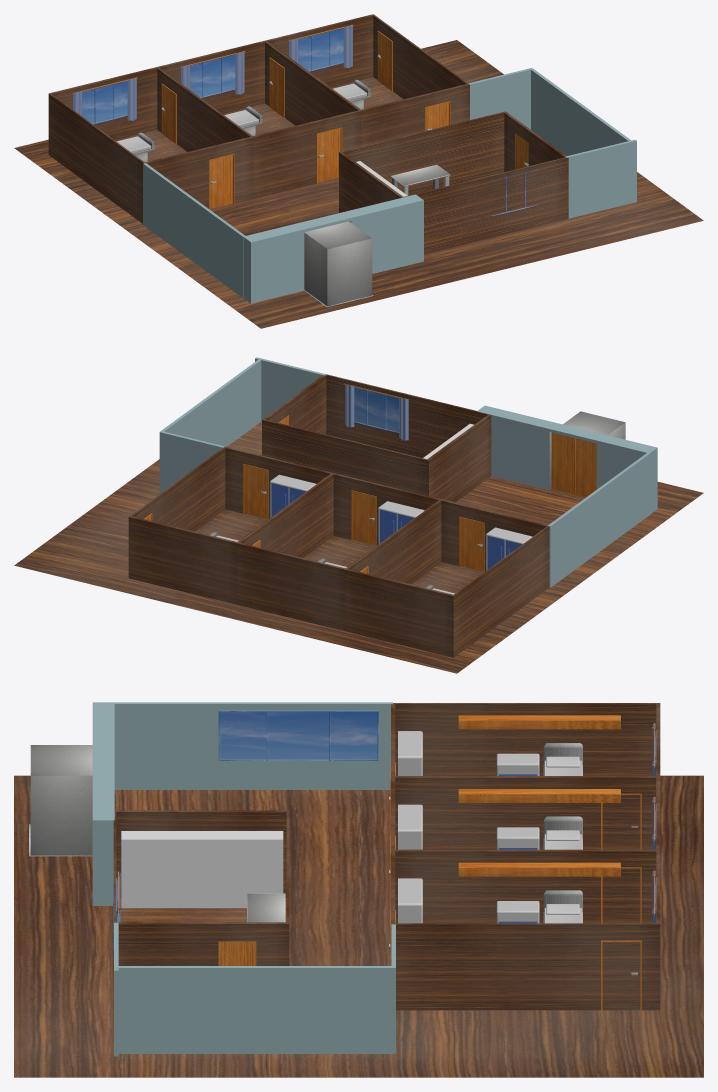
File: hospital_SceneAssets.fbx
3 views of the same model, one above another, from view 1: azimuth 30°, elevation 25°; view 2: azimuth 150°, elevation 25°; view 3: azimuth 270°, elevation 25° (orthographic). The views are drawn at different scales.
Visible parts, largest first — view 1: gang_vloer, Basis_Kamer_4, Basis_Kamer, Basis_Kamer_2, Basis_Kamer_3, Wall_5, Wall_4, Lift, Wall_1, Wall_2, Wall_3, Raam_3 (+9 smaller); view 2: gang_vloer, Basis_Kamer, Basis_Kamer_4, Basis_Kamer_3, Basis_Kamer_2, Wall_5, Wall_4, Wall_2, Wall_3, Wall_1, Raam_1, LiftDeur2 (+8 smaller); view 3: gang_vloer, Basis_Kamer_3, Wall_2, Wall_4, Basis_Kamer_2, Basis_Kamer, Basis_Kamer_4, Medicijnkadst_voorlopig, Raam, Lift, Wall_5, Lamp (+14 smaller).
Part boxes in pixels (box(x1,y1,x2,y2)): gang_vloer: box(14, 40, 703, 328); Basis_Kamer_4: box(339, 111, 568, 253); Basis_Kamer: box(48, 67, 253, 223); Basis_Kamer_2: box(157, 40, 360, 198); Basis_Kamer_3: box(265, 14, 469, 146); Wall_5: box(243, 194, 423, 303); Wall_4: box(143, 163, 245, 297); Lift: box(304, 221, 373, 307); Wall_1: box(565, 139, 636, 218); Wall_2: box(531, 68, 632, 155); Wall_3: box(468, 68, 532, 129); Raam_3: box(190, 54, 235, 97); gang_vloer: box(14, 421, 703, 673); Basis_Kamer: box(345, 499, 549, 657); Basis_Kamer_4: box(262, 374, 491, 502); Basis_Kamer_3: box(128, 446, 333, 604); Basis_Kamer_2: box(237, 473, 440, 630); Wall_5: box(477, 405, 657, 513); Wall_4: box(548, 453, 650, 587); Wall_2: box(160, 358, 262, 446); Wall_3: box(159, 431, 224, 493); Wall_1: box(255, 357, 326, 421); Raam_1: box(354, 387, 399, 432); LiftDeur2: box(551, 432, 575, 494); gang_vloer: box(14, 775, 703, 1077); Basis_Kamer_3: box(391, 850, 660, 1010); Wall_2: box(114, 966, 392, 1053); Wall_4: box(114, 702, 392, 789); Basis_Kamer_2: box(391, 776, 660, 850); Basis_Kamer: box(391, 703, 660, 776); Basis_Kamer_4: box(113, 810, 289, 1009); Medicijnkadst_voorlopig: box(121, 831, 283, 908); Raam: box(218, 710, 378, 760); Lift: box(29, 745, 92, 856); Wall_5: box(92, 702, 114, 905); Lamp: box(458, 715, 620, 729).
Bounding box in the file's own units: 1888 × 257 × 1823.
11 materials, 5 textured.
